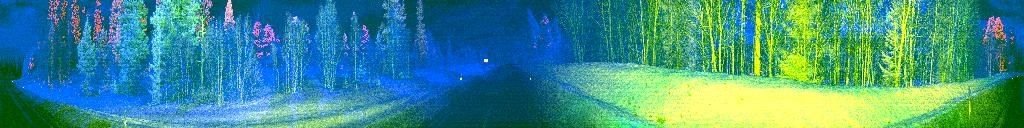pole: (967, 82, 972, 122), (122, 100, 129, 128), (459, 72, 463, 89)
